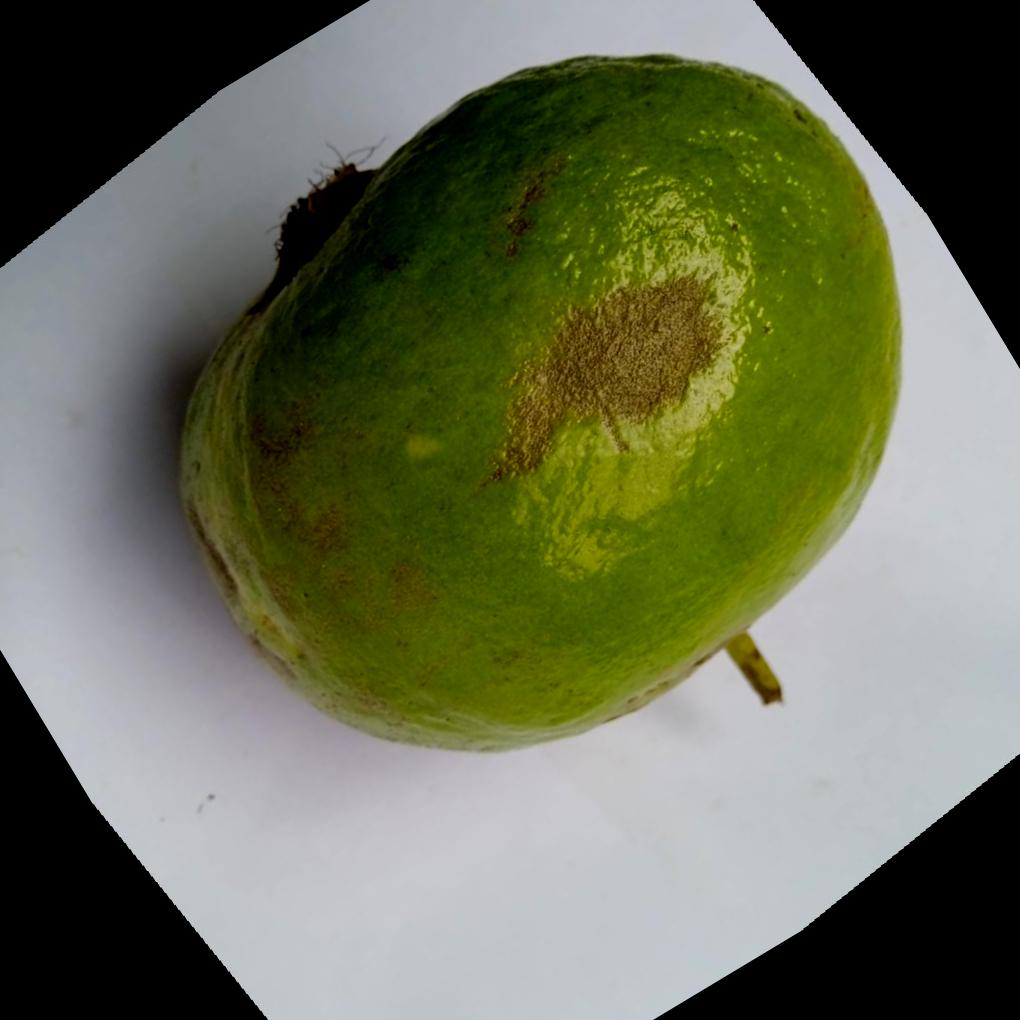FreshGuava: (172, 54, 902, 757)
